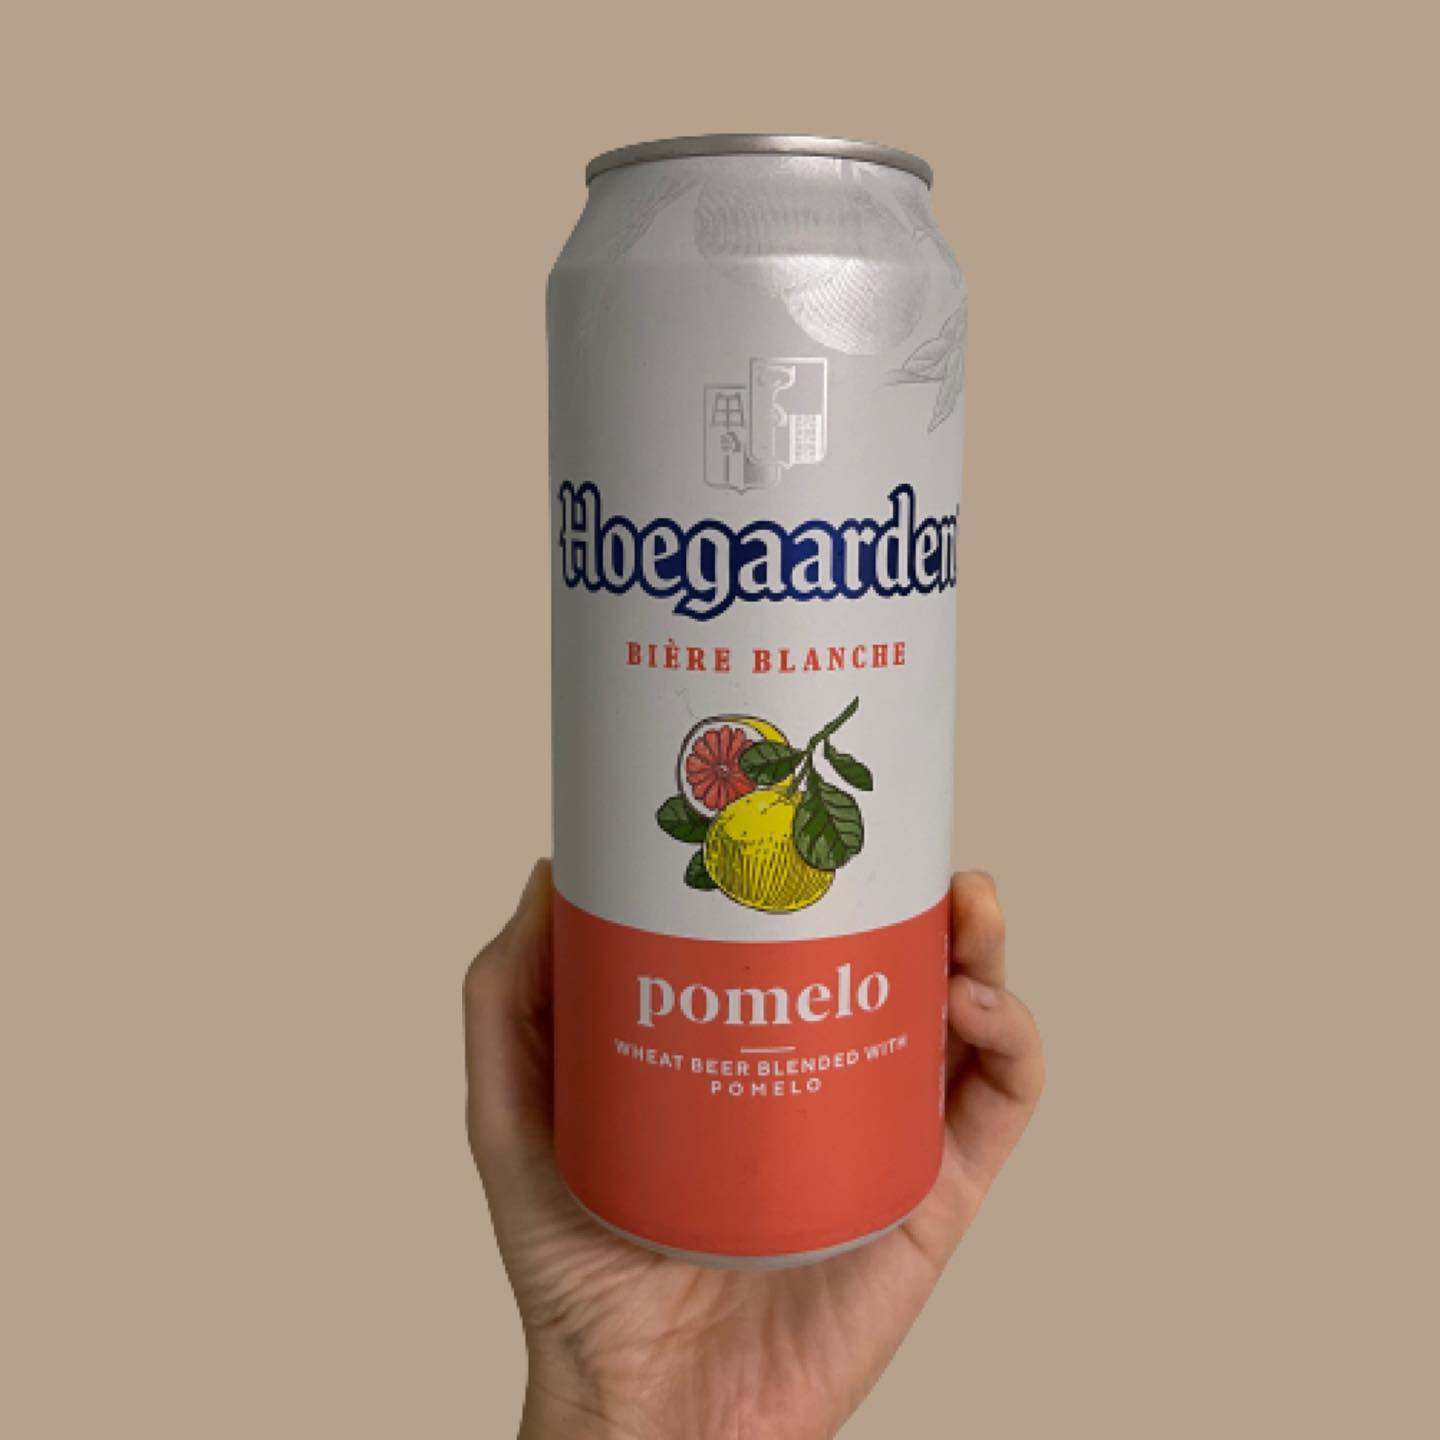alcohol: (535, 119, 978, 1278)
